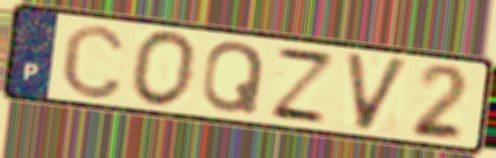2: (411, 62, 474, 143)
C: (58, 20, 129, 102)
O: (129, 28, 201, 111)
Q: (198, 39, 268, 117)
V: (341, 49, 413, 135)
Z: (266, 43, 340, 127)
